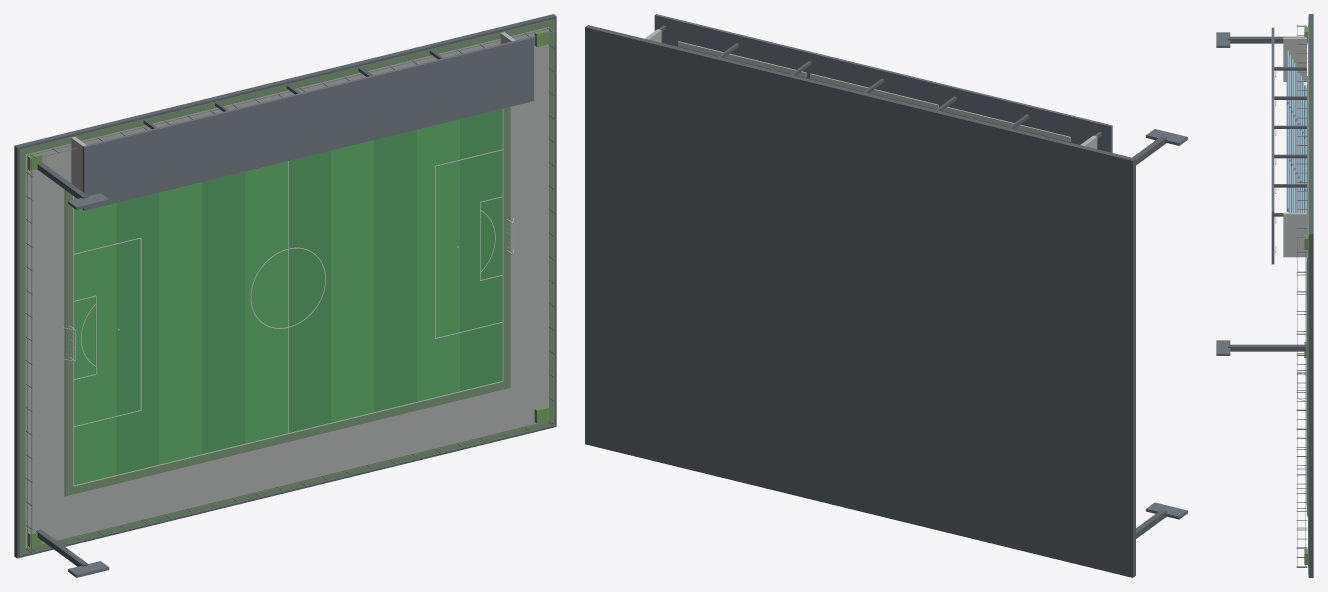
File: stadium_level_1.glb
3 renders of one model, left to right at view 1: azimuth 30°, elevation 25°; view 2: azimuth 150°, elevation 25°; view 3: azimuth 270°, elevation 25°, orthographic. The views are drawn at different scales.
Parts seen in each view (by area): view 1: grass3, grass2, paving, roof, ground, dark, rail, white, hedge, concrete; view 2: dark, roof, concrete; view 3: dark, concrete, rail, roof, blue, ground, blue2, paving, white, grass, hedge.
Part boxes in pixels (x1,y1,x2,y2): grass3: [116, 109, 502, 474]; grass2: [74, 119, 459, 485]; paving: [25, 27, 548, 547]; roof: [68, 36, 533, 577]; ground: [19, 19, 554, 555]; dark: [14, 14, 556, 566]; rail: [26, 27, 555, 553]; white: [63, 108, 514, 486]; hedge: [28, 29, 549, 547]; concrete: [71, 32, 515, 191]; dark: [585, 25, 1166, 577]; roof: [654, 14, 1187, 519]; concrete: [644, 29, 1097, 148]; dark: [1228, 14, 1313, 577]; concrete: [1283, 37, 1306, 257]; rail: [1296, 24, 1307, 567]; roof: [1216, 27, 1274, 355]; blue: [1286, 51, 1304, 212]; ground: [1307, 17, 1308, 574]; blue2: [1289, 55, 1302, 212]; paving: [1308, 24, 1308, 567]; white: [1297, 86, 1306, 505]; grass: [1306, 87, 1306, 504]; hedge: [1304, 27, 1307, 564].
Size of the model in its own units: 132 by 97.32 by 24.7.
